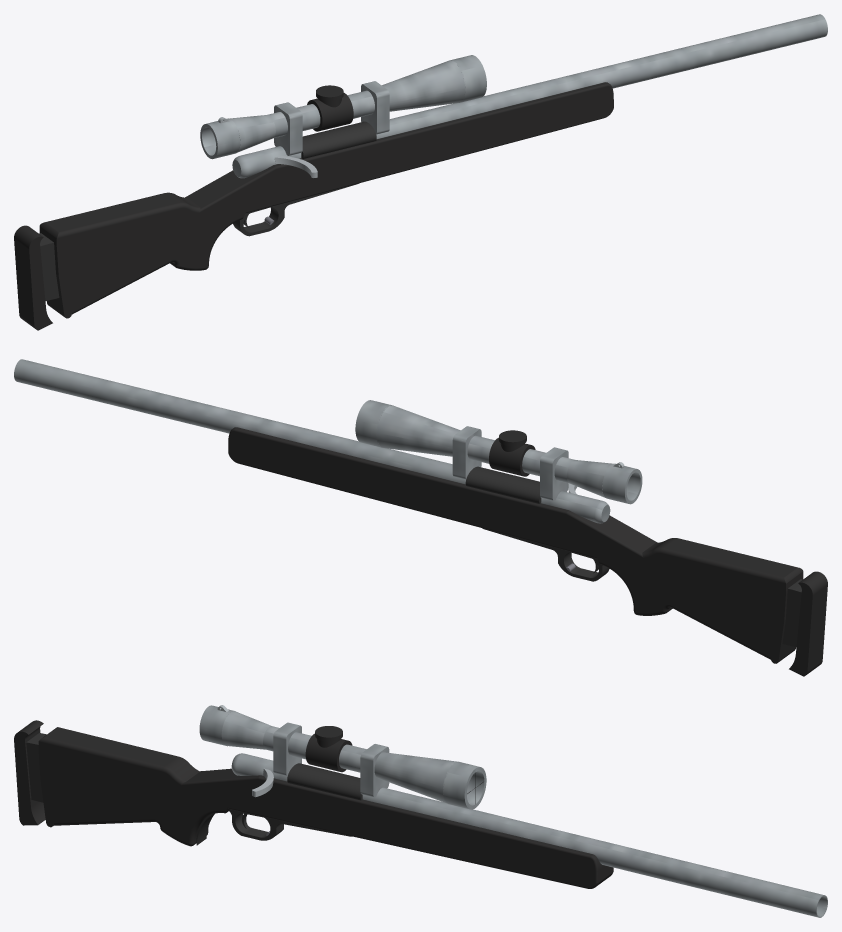
Rendered from SNIPER with crosshair.glb.
The picture shows the model from 3 angles, top to bottom: view 1: azimuth 30°, elevation 25°; view 2: azimuth 150°, elevation 25°; view 3: azimuth 330°, elevation 25°; orthographic projection.
Size of the model in its own units: 0.0423 by 0.00815 by 0.00381.
5 materials, 1 textured.
